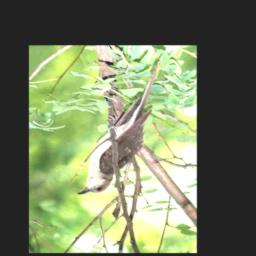Cuckoo: (78, 54, 163, 195)
